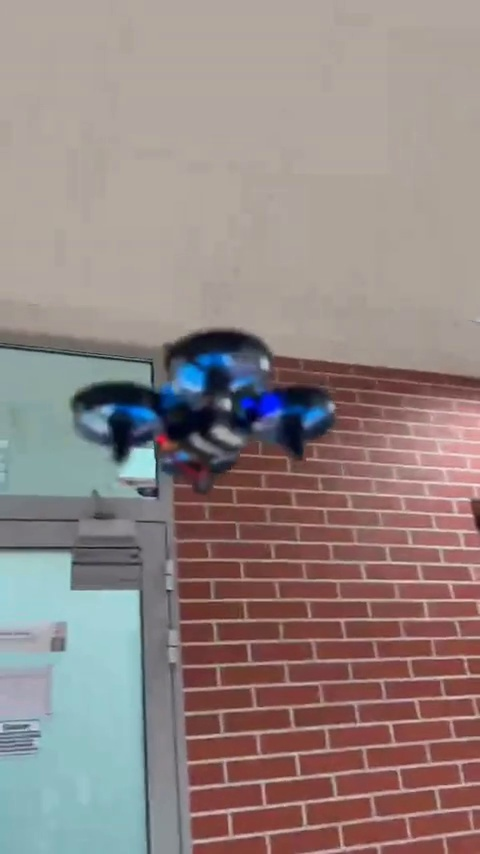drone: (66, 327, 333, 490)
